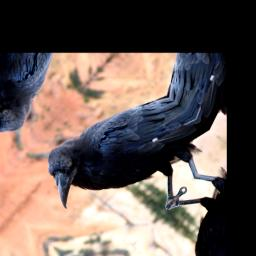Crow: (24, 63, 226, 256)
